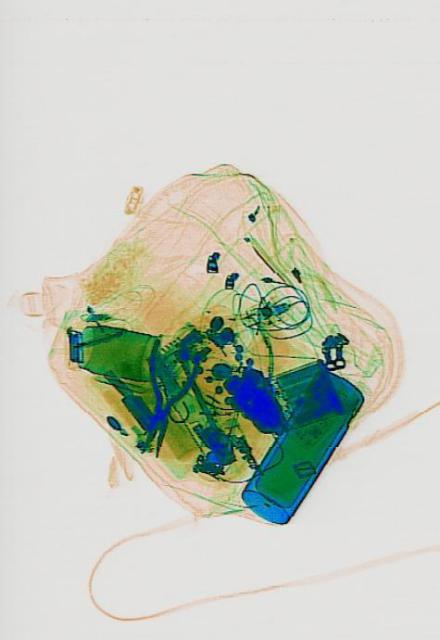Pliers: (124, 335, 197, 467)
